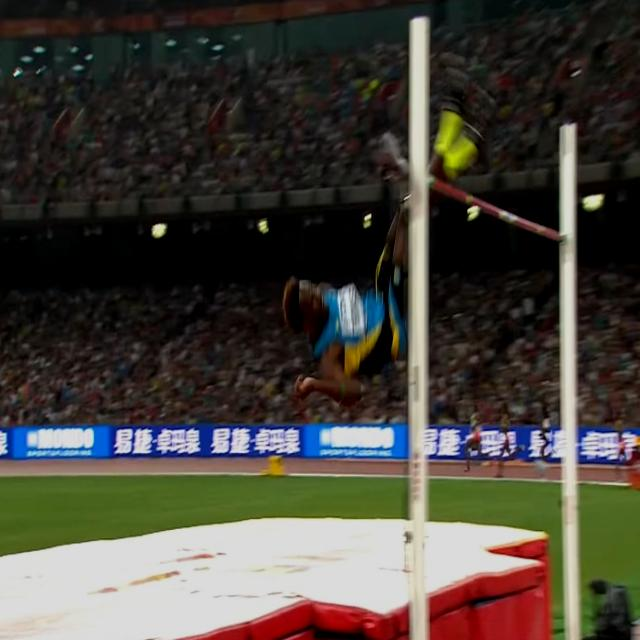land: (283, 60, 494, 406)
